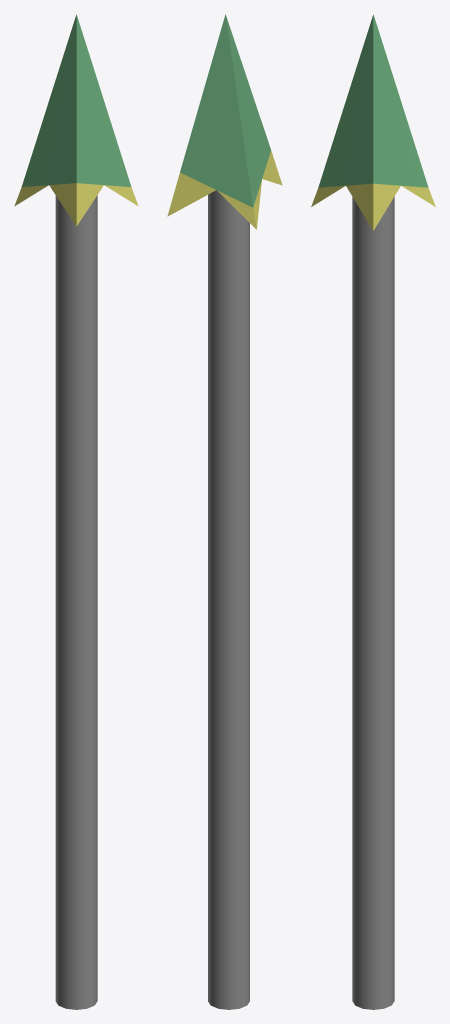
The model's file is Enemy_Warrior_spear.fbx.
3 renders of one model, left to right at view 1: azimuth 90°, elevation 25°; view 2: azimuth 210°, elevation 25°; view 3: azimuth 270°, elevation 25°, orthographic.
Parts seen in each view (by area): view 1: pCylinder1, pCube6; view 2: pCylinder1, pCube6; view 3: pCylinder1, pCube6.
Part boxes in pixels (x1,y1,x2,y2): pCylinder1: [55, 195, 97, 1009]; pCube6: [14, 14, 138, 226]; pCylinder1: [208, 190, 249, 1009]; pCube6: [167, 14, 282, 229]; pCylinder1: [352, 196, 394, 1009]; pCube6: [311, 14, 435, 230].
Size of the model in its own units: 10.83 by 88.64 by 10.15.
